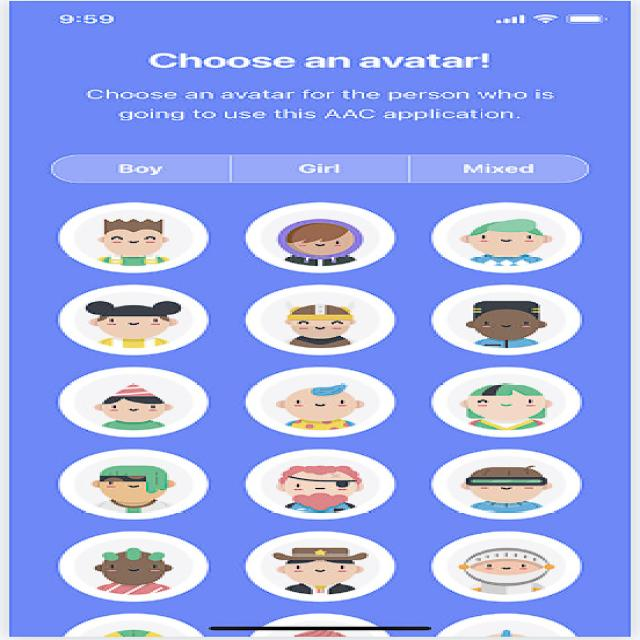column: (426, 190, 640, 639), (228, 189, 423, 640), (30, 191, 224, 638)
row: (27, 188, 629, 280), (29, 524, 634, 610), (33, 441, 632, 524), (26, 279, 640, 359), (26, 361, 640, 439)
text: (61, 47, 574, 123)
view: (35, 524, 219, 613), (432, 441, 613, 524), (423, 364, 618, 441), (35, 442, 219, 523), (244, 524, 416, 610), (38, 282, 224, 361), (235, 365, 416, 443), (236, 283, 414, 360), (35, 366, 219, 440), (41, 198, 219, 274), (424, 284, 606, 358), (432, 528, 602, 606), (235, 198, 409, 274), (236, 446, 404, 522), (433, 200, 599, 274)
